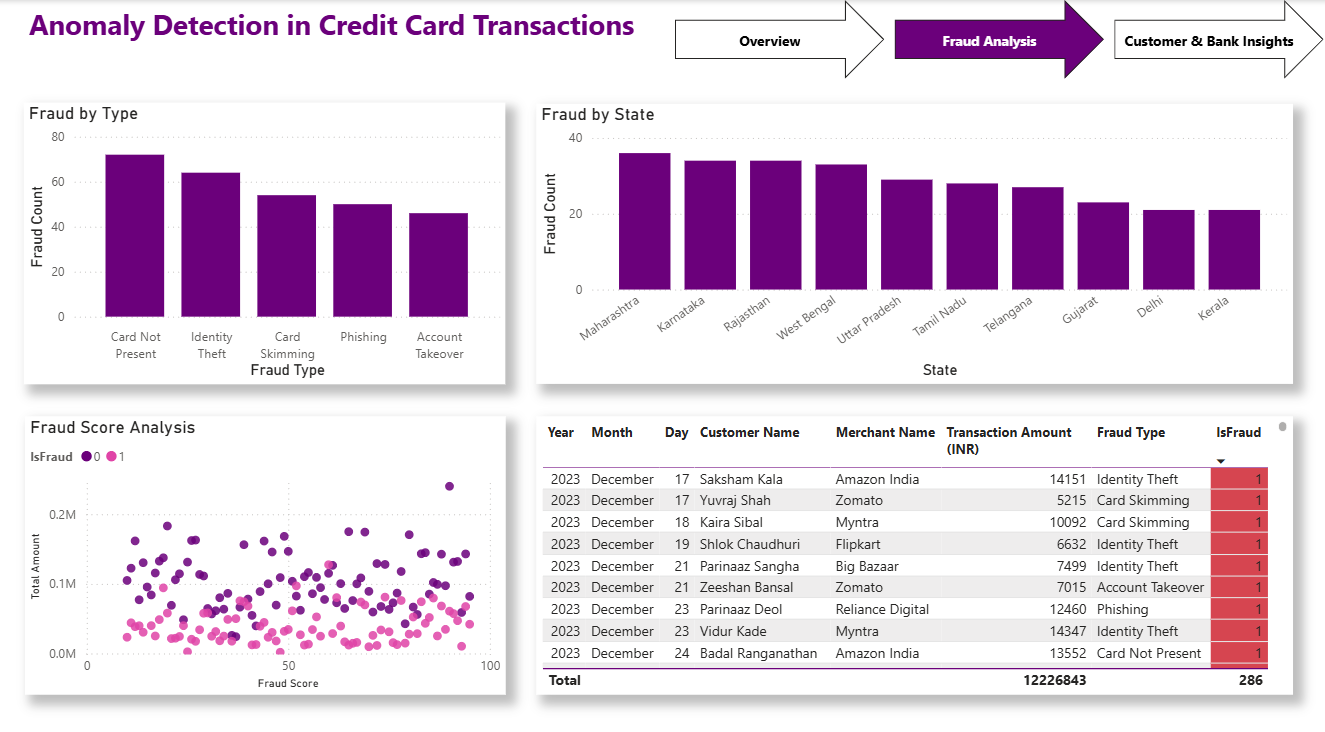

The page's visual inventory and layout, read from the dashboard file:
{"tool":"powerbi","page":{"name":"Fraud Analysis","canvas":[1280,720],"ordinal":1},"visuals":[{"type":"textbox","box":[23.3,0,616.1,67.2],"z":0},{"type":"pageNavigator","box":[651.5,0,628.5,76.8],"z":1000},{"type":"columnChart","title":"Fraud by Type","fields":{"Category":["Credit Card Fraud Risk Analysis.Fraud Type"],"Y":["Credit Card Fraud Risk Analysis.Fraud Count"]},"box":[23.3,98.8,465.2,271.7],"z":2000},{"type":"columnChart","title":"Fraud by State","fields":{"Category":["Credit Card Fraud Risk Analysis.State"],"Y":["Credit Card Fraud Risk Analysis.Fraud Count"]},"box":[517.3,100.2,730,270.3],"z":3000},{"type":"scatterChart","title":"Fraud Score Analysis","fields":{"X":["Credit Card Fraud Risk Analysis.Fraud Score"],"Y":["Credit Card Fraud Risk Analysis.Total Amount"],"Series":["Credit Card Fraud Risk Analysis.IsFraud"]},"box":[24.7,402.1,463.8,269],"z":4000},{"type":"tableEx","fields":{"Values":["Credit Card Fraud Risk Analysis.Transaction Date.Variation.Date Hierarchy.Year","Credit Card Fraud Risk Analysis.Transaction Date.Variation.Date Hierarchy.Month","Credit Card Fraud Risk Analysis.Transaction Date.Variation.Date Hierarchy.Day","Credit Card Fraud Risk Analysis.Customer Name","Credit Card Fraud Risk Analysis.Merchant Name","Sum(Credit Card Fraud Risk Analysis.Transaction Amount (INR))","Credit Card Fraud Risk Analysis.Fraud Type","Sum(Credit Card Fraud Risk Analysis.IsFraud)"]},"box":[517.3,402.1,730,269],"z":5000}]}

Visuals, with their boxes in screenshot pixels (x1, y1, x2, y2), scaled from the page's 1280x720 canvas onto the 1325x732 screenshot:
textbox: rect(24, 0, 662, 68)
pageNavigator: rect(674, 0, 1324, 78)
"Fraud by Type" columnChart: rect(24, 100, 506, 377)
"Fraud by State" columnChart: rect(535, 102, 1291, 377)
"Fraud Score Analysis" scatterChart: rect(26, 409, 506, 682)
tableEx - Credit Card Fraud Risk Analysis.Transaction Date.Variation.Date Hierarchy.Year x Credit Card Fraud Risk Analysis.Transaction Date.Variation.Date Hierarchy.Month: rect(535, 409, 1291, 682)
